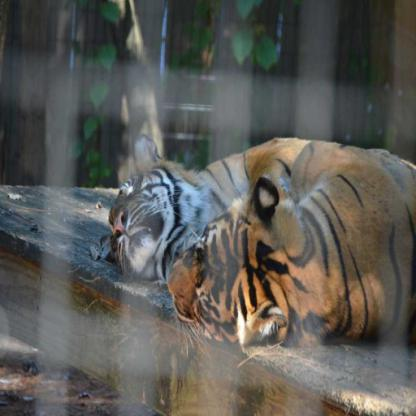Tiger: (99, 120, 416, 375), (172, 155, 416, 410)
